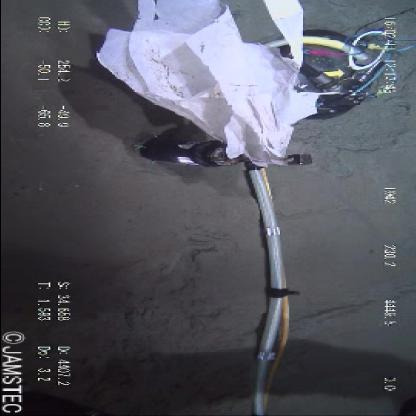Rov: (296, 17, 408, 126)
Rác: (96, 1, 306, 165)
